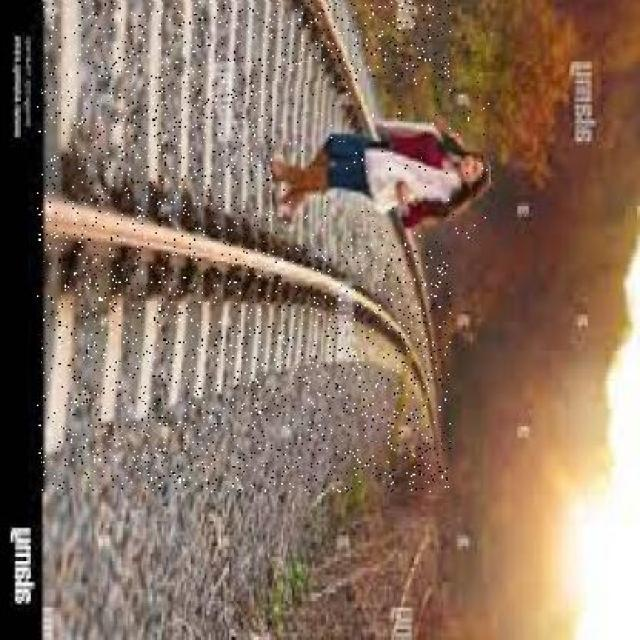danger: (270, 80, 488, 245)
rail: (35, 2, 448, 491)
